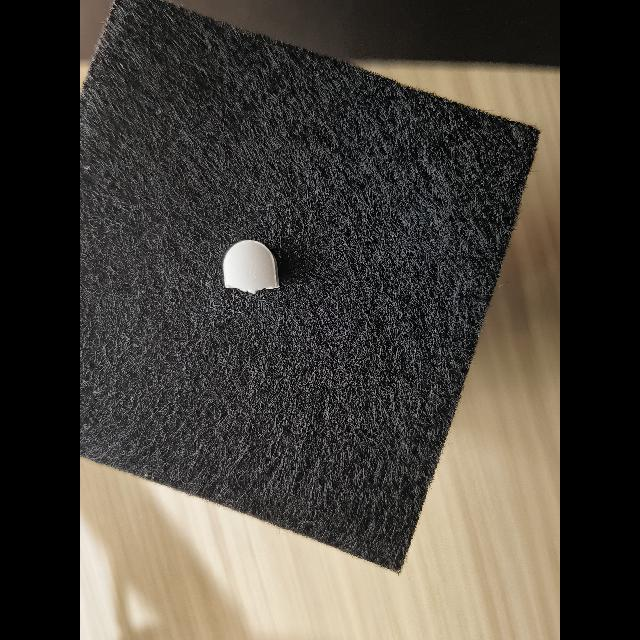Chipped Pill: (223, 240, 280, 294)
